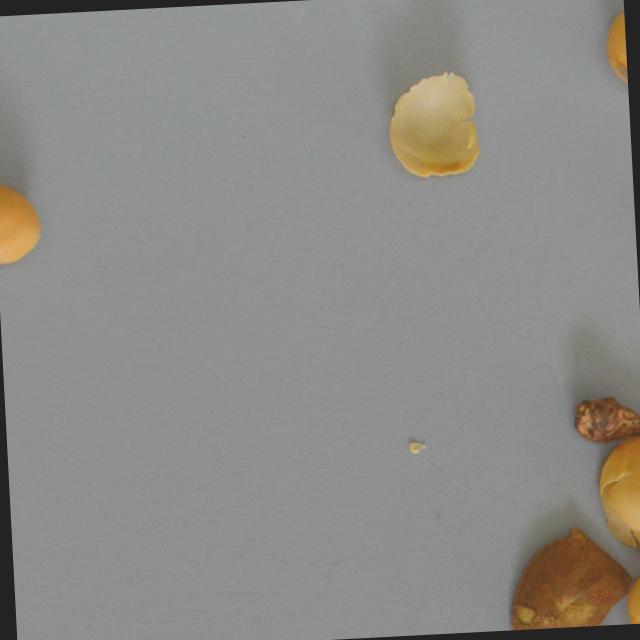cuerpos_extranos: (510, 523, 635, 630), (381, 67, 483, 181), (592, 433, 640, 568), (0, 167, 45, 270), (571, 391, 640, 443), (601, 2, 629, 95), (619, 563, 640, 625)
